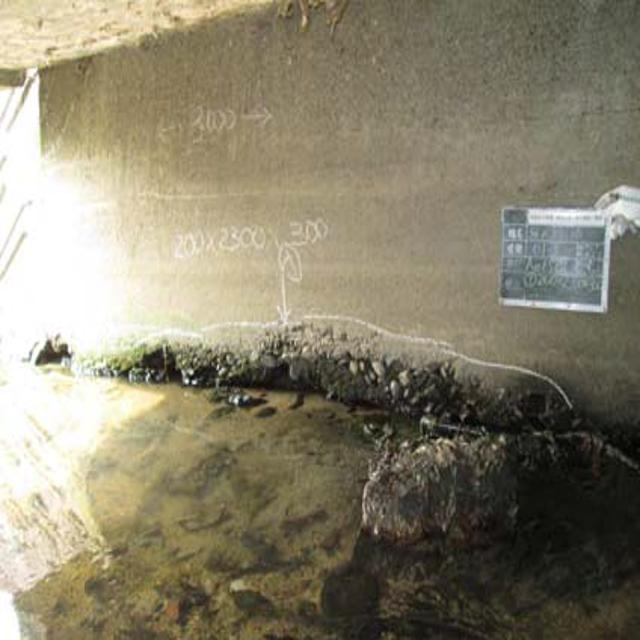spalling: (37, 330, 582, 430)
